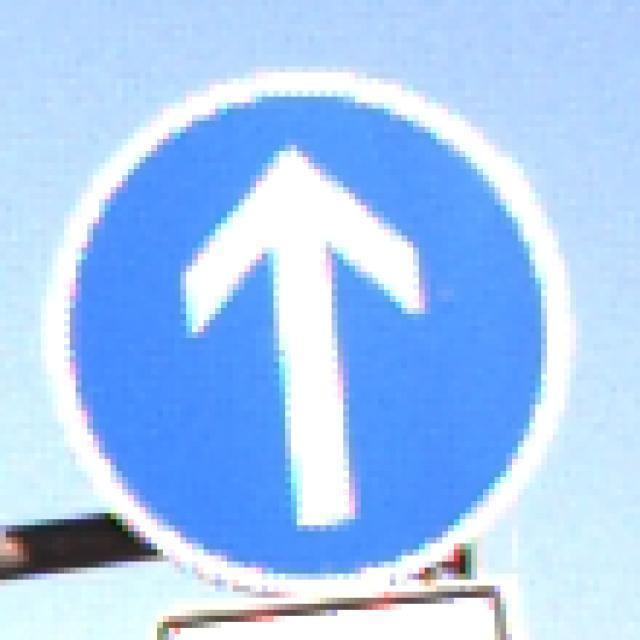compulsary ahead: (59, 76, 566, 578)
